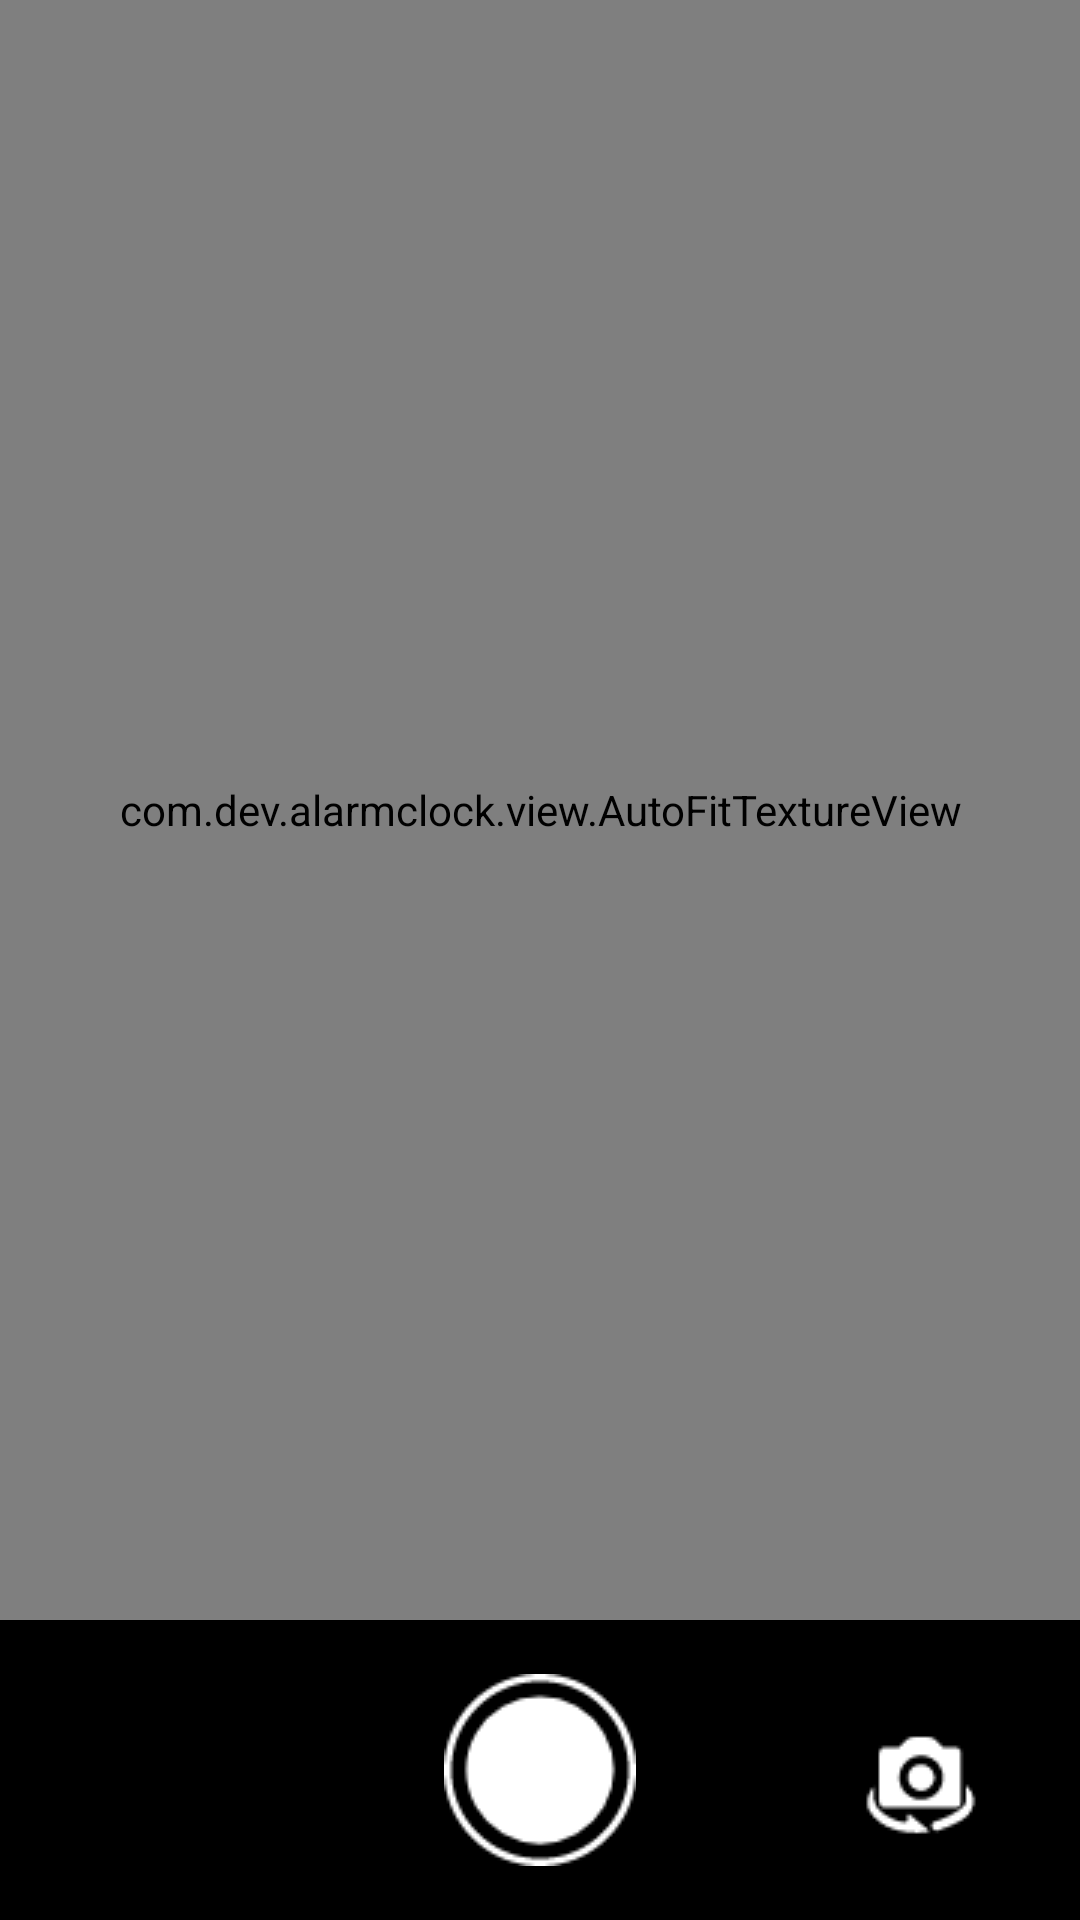

Screen size 1080×1920. Icon name, then its center in pixels as point (x, y):
switch: point (921, 1785)
